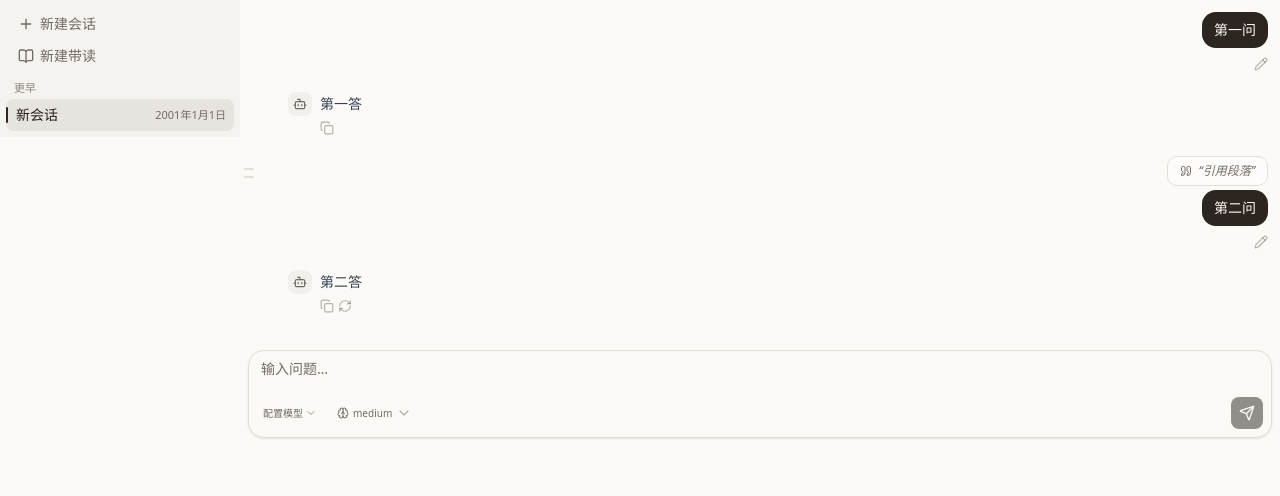
ChatPanel regenerate › cancels an in-progress edit before regenerating
Step 1. Click the button named "编辑" below "第二问" → (1261, 242), box x1=1254 y1=235 x2=1268 y2=249
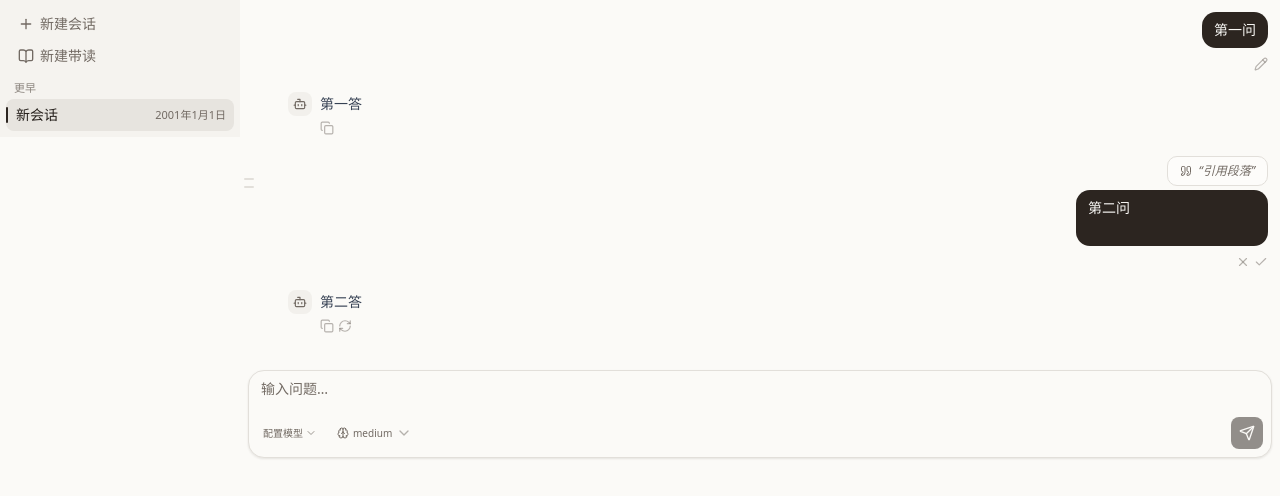
Result: the button named "保存" is shown at x1=1254 y1=255 x2=1268 y2=269
Step 2. Click the button named "重新生成" → (345, 326), box x1=338 y1=319 x2=352 y2=333
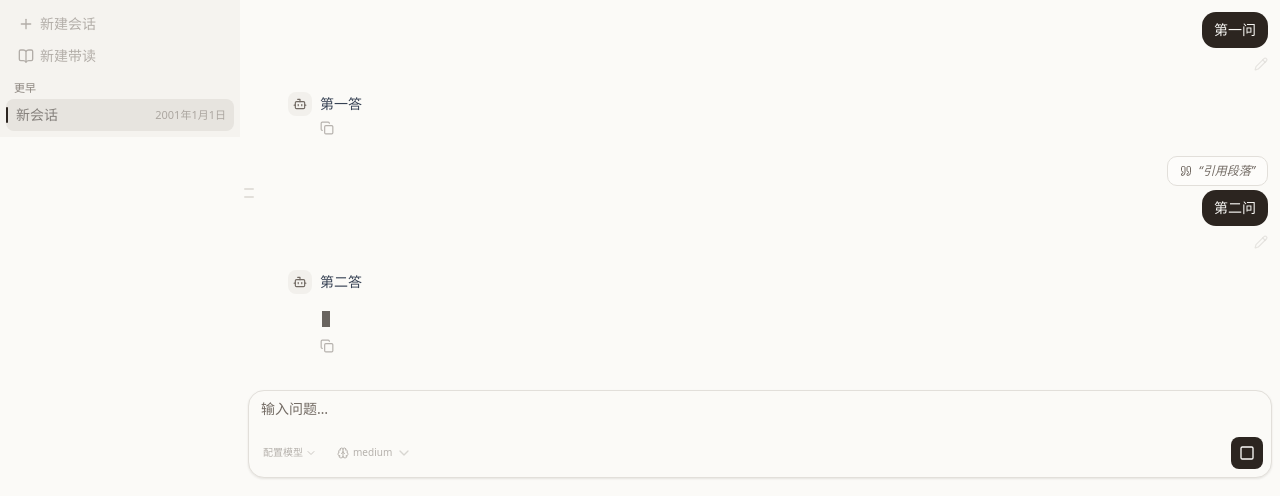
Result: the button "保存" is gone
